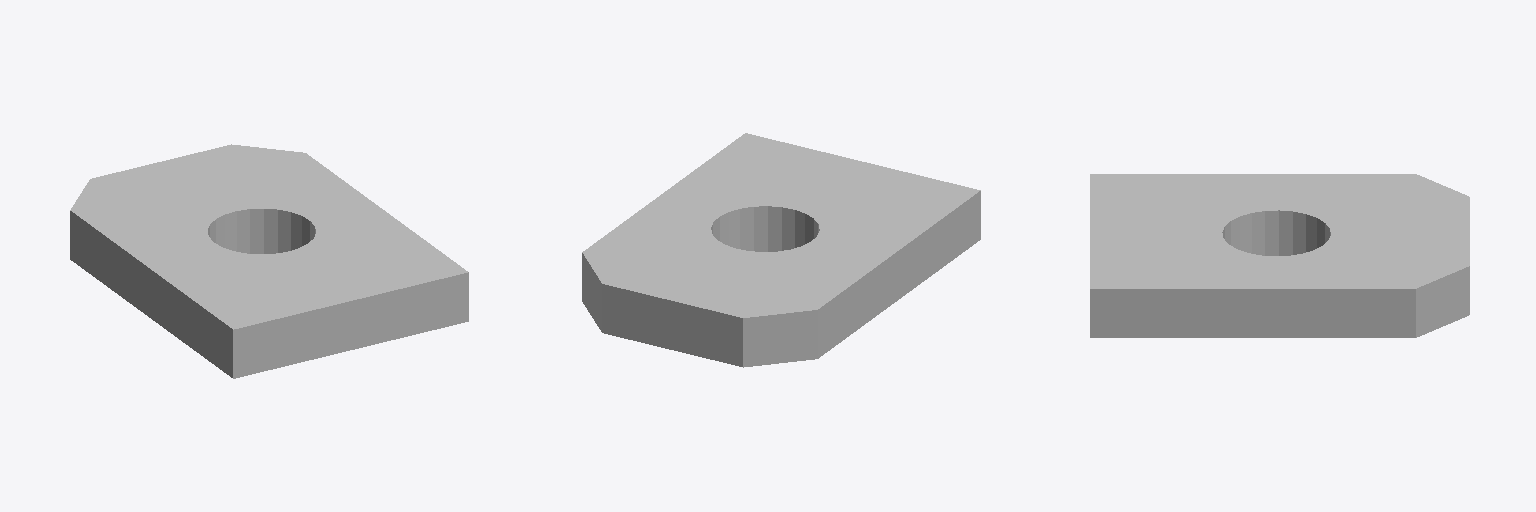
Rendered from original-5.obj.
3 renders of one model, left to right at view 1: azimuth 30°, elevation 25°; view 2: azimuth 150°, elevation 25°; view 3: azimuth 270°, elevation 25°, orthographic.
Parts seen in each view (by area): view 1: Group4/mesh9/mesh9-geometry#mesh9-geometry; view 2: Group4/mesh9/mesh9-geometry#mesh9-geometry; view 3: Group4/mesh9/mesh9-geometry#mesh9-geometry.
Boxes of the visible parts, <box> form: Group4/mesh9/mesh9-geometry#mesh9-geometry: <box>70,144,468,378</box>; Group4/mesh9/mesh9-geometry#mesh9-geometry: <box>582,133,980,367</box>; Group4/mesh9/mesh9-geometry#mesh9-geometry: <box>1090,174,1469,337</box>.
Size of the model in its own units: 0.3576 by 0.0715 by 0.5006.